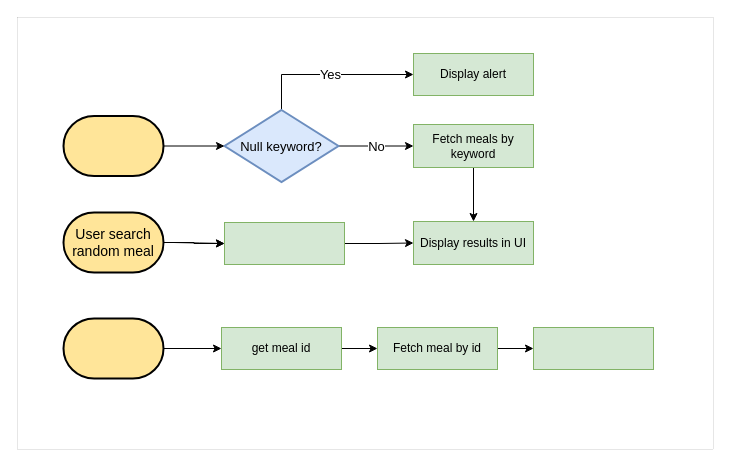
Image size: 730x466. Some labels were removed from this diagram. The shapes that lost their labels are listed below. From the top down, each one's centre as x and y in pixels, then its label:
(113,145): User search enter keyword
(284,243): Fetch random meal from meal API
(113,348): User clicks meal element
(593,348): Display meal in UI
